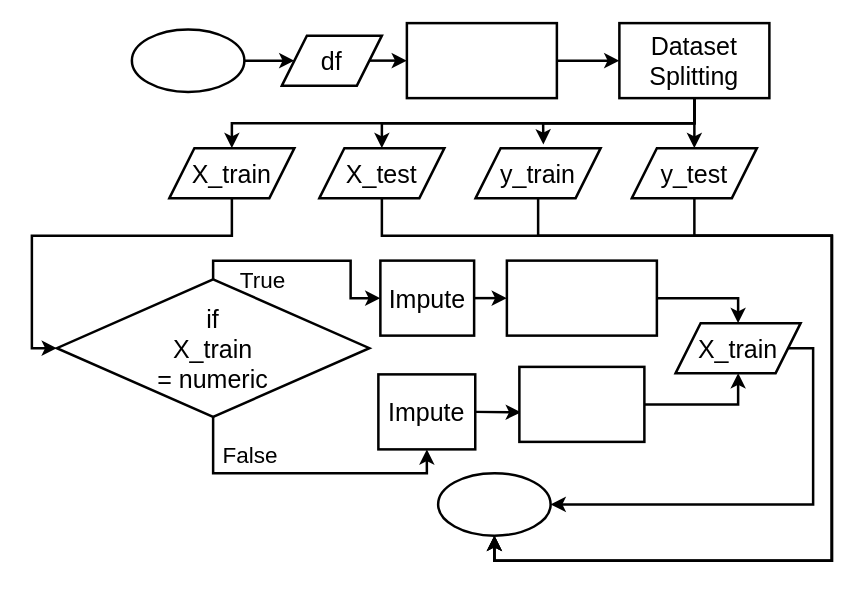
Image size: 864x593. Some labels were removed from this diagram. The centre of each missing label's shape, as x and y in pixels:
Encoding: the point at 581,403
Hapus Outlier: the point at 481,60
Mulai: the point at 187,60
Normalisasi: the point at 581,297
Selesai: the point at 493,503
